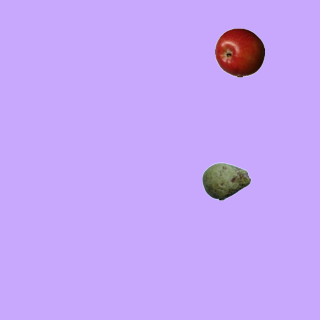Apple Braeburn: (214, 27, 264, 77)
Pear Stone: (201, 156, 251, 206)
